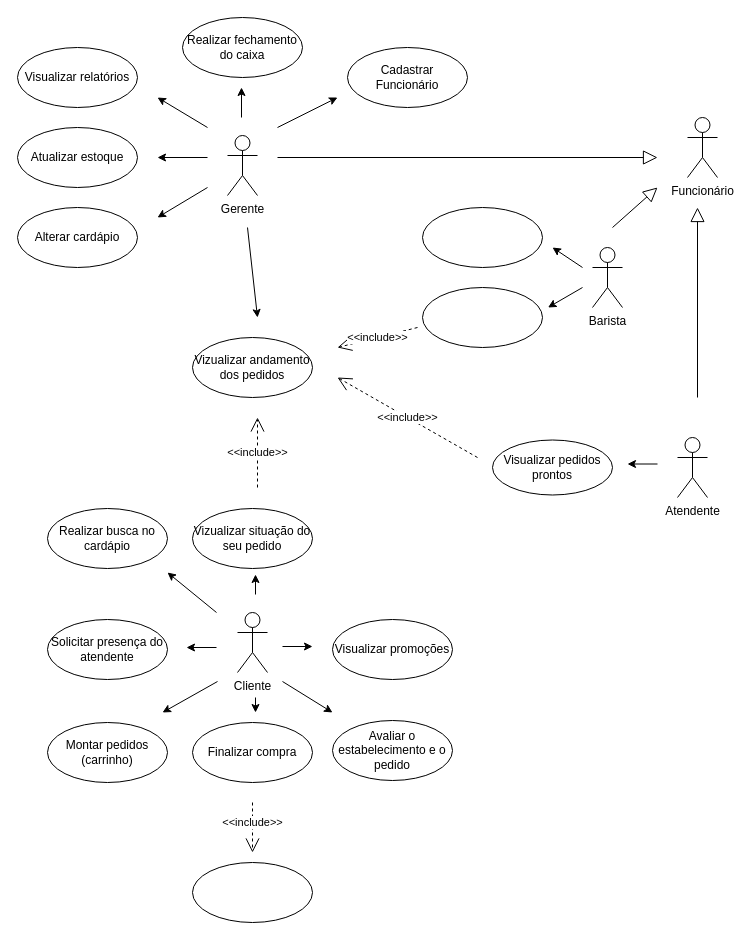
This 751x940 diagram has some shape labels left out. Each missing label, with the centre of its shape:
"Atualizar andamento do pedido" goes at point (482, 237).
"Realizar pagamento" goes at point (252, 892).
"Visualizar fila pedidos" goes at point (482, 317).
